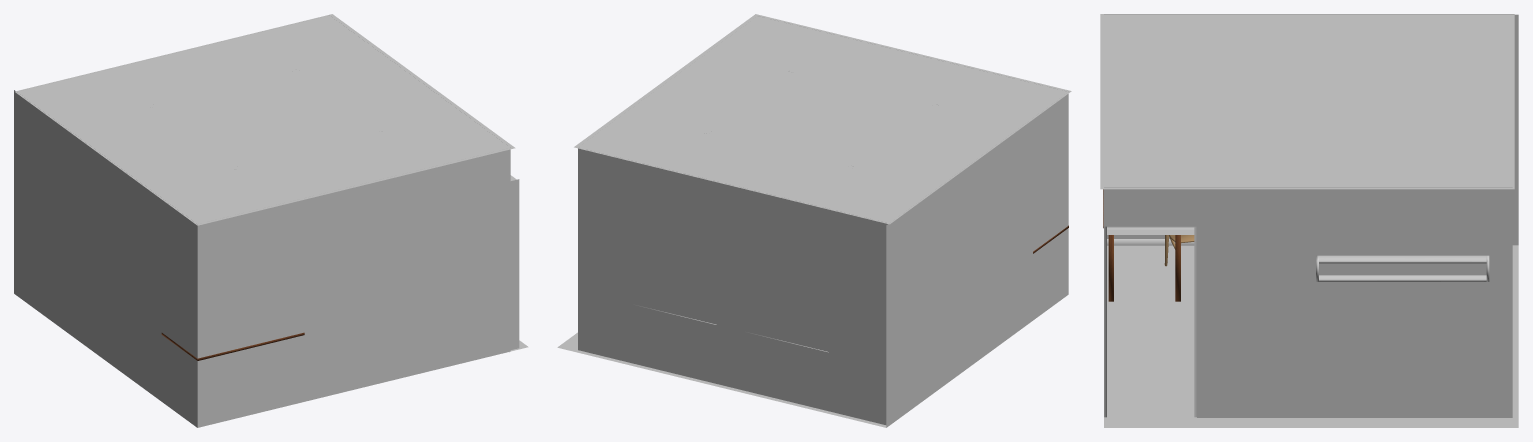
The model's file is fukuya_low.dae.
3 views of the same model, side by side, from view 1: azimuth 30°, elevation 25°; view 2: azimuth 150°, elevation 25°; view 3: azimuth 270°, elevation 25° (orthographic). The views are drawn at different scales.
Parts seen in each view (by area): view 1: sennyu_tex1; view 2: sennyu_tex1; view 3: sennyu_tex1, sennyu_other.
Boxes of the visible parts, x1,y1,x2,y2 form: sennyu_tex1: (14, 14, 528, 427); sennyu_tex1: (557, 14, 1071, 427); sennyu_tex1: (1100, 14, 1518, 427); sennyu_other: (1103, 189, 1194, 301).
Bounding box in the file's own units: 376 × 362 × 222.
